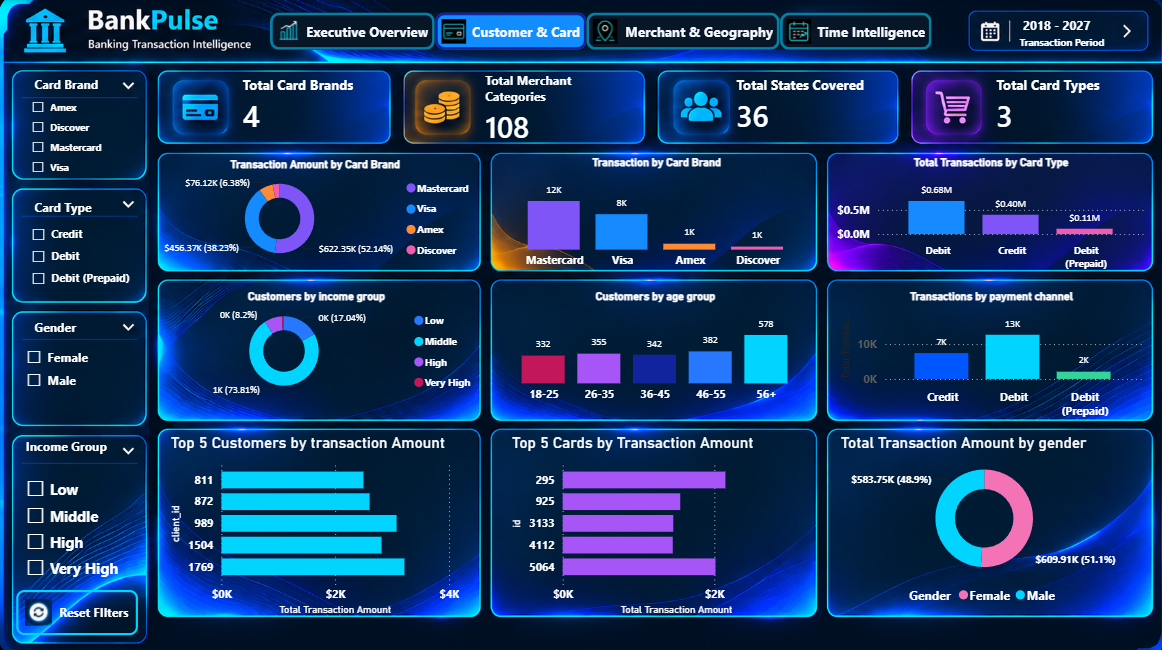

Layout of this report page (visuals, bound fields, positions):
{"tool":"powerbi","page":{"name":"Customer & Card","canvas":[1280,720],"ordinal":1},"visuals":[{"type":"actionButton","box":[296.8,13.3,181,41],"z":0},{"type":"actionButton","box":[477.8,13.3,166.5,41],"z":1000},{"type":"actionButton","box":[644.2,13.3,212.3,41],"z":2000},{"type":"actionButton","box":[856.6,13.3,166.5,41],"z":3000},{"type":"textbox","box":[1114.8,13.3,139.9,47.1],"z":4000},{"type":"cardVisual","fields":{"Data":["Measures (2).Total Merchant Categories"]},"box":[503.6,61.7,217.2,115.8],"z":5000},{"type":"cardVisual","fields":{"Data":["Measures (2).Total Card Brands"]},"box":[237.4,57.6,189.4,115.8],"z":6000},{"type":"cardVisual","fields":{"Data":["Measures (2).Total States Covered"]},"box":[779.4,54.3,270.2,121.9],"z":7000},{"type":"cardVisual","fields":{"Data":["Measures (2).Total Card Types"]},"box":[1065.3,54.3,214.7,121.9],"z":8000},{"type":"slicer","fields":{"Values":["cards_data.card_brand"]},"box":[22.9,101.3,117,103.8],"z":9000},{"type":"slicer","fields":{"Values":["cards_data.card_type"]},"box":[22.9,240.1,129.1,106.2],"z":10000},{"type":"slicer","fields":{"Values":["users_data.gender"]},"box":[18.1,374,129.1,65.1],"z":11000},{"type":"slicer","fields":{"Values":["users_data.Income Group"]},"box":[18.1,517.6,138.7,130.3],"z":12000},{"type":"textbox","box":[32.6,78.4,98.9,37.4],"z":13000},{"type":"textbox","box":[32.6,213.5,107.4,36.2],"z":14000},{"type":"textbox","box":[32.6,346.2,83.2,35],"z":15000},{"type":"textbox","box":[22.9,476.5,108.6,41],"z":16000},{"type":"donutChart","title":"Transaction Amount by Card Brand","fields":{"Category":["cards_data.card_brand"],"Y":["Measures (2).Total Transaction Amount"]},"box":[162.9,172.5,365.6,120.6],"z":17000},{"type":"columnChart","title":"Transaction  by Card Brand","fields":{"Category":["cards_data.card_brand"],"Y":["Measures (2).Total Transactions Count"]},"box":[544.1,171.3,352.3,132.7],"z":18000},{"type":"columnChart","title":"Total Transactions by Card Type","fields":{"Category":["cards_data.card_type"],"Y":["Measures (2).Total Transaction Amount"]},"box":[914.5,171.3,348.7,132.7],"z":19000},{"type":"donutChart","title":"Customers by income group","fields":{"Category":["users_data.Income Group"],"Y":["Measures (2).Total Customers"]},"box":[164.1,318.5,365.6,120.6],"z":20000},{"type":"actionButton","box":[18.1,647.9,133.9,49.5],"z":21000},{"type":"columnChart","title":"Customers by age group","fields":{"Category":["users_data.Age Group"],"Y":["Measures (2).Total Customers"]},"box":[544,318.6,352.3,132.7],"z":22000},{"type":"columnChart","title":"Transactions by payment channel","fields":{"Category":["cards_data.card_type"],"Y":["Measures (2).Total Transactions Count"]},"box":[918.3,318.6,340.9,148.9],"z":23000},{"type":"clusteredBarChart","title":"Top 5 Customers by transaction Amount","fields":{"Category":["transactions_data.client_id"],"Y":["Measures (2).Total Transaction Amount"]},"box":[182.5,476.2,326.6,204.5],"z":24000},{"type":"clusteredBarChart","title":"Top 5 Cards by Transaction Amount","fields":{"Category":["cards_data.id"],"Y":["Measures (2).Total Transaction Amount"]},"box":[557.1,476.2,326.6,204.5],"z":25000},{"type":"donutChart","fields":{"Category":["users_data.gender"],"Y":["Measures (2).Total Transaction Amount"]},"box":[918,476.2,325.2,196.2],"z":26000}]}

Visuals, with their boxes in screenshot pixels (x1, y1, x2, y2), scaled from the page's 1280x720 canvas onto the 1162x650 screenshot:
actionButton: bbox(269, 12, 434, 49)
actionButton: bbox(434, 12, 585, 49)
actionButton: bbox(585, 12, 778, 49)
actionButton: bbox(778, 12, 929, 49)
textbox: bbox(1012, 12, 1139, 55)
cardVisual - Measures (2).Total Merchant Categories: bbox(457, 56, 654, 160)
cardVisual - Measures (2).Total Card Brands: bbox(216, 52, 387, 157)
cardVisual - Measures (2).Total States Covered: bbox(708, 49, 953, 159)
cardVisual - Measures (2).Total Card Types: bbox(967, 49, 1161, 159)
slicer - cards_data.card_brand: bbox(21, 91, 127, 185)
slicer - cards_data.card_type: bbox(21, 217, 138, 313)
slicer - users_data.gender: bbox(16, 338, 134, 396)
slicer - users_data.Income Group: bbox(16, 467, 142, 585)
textbox: bbox(30, 71, 119, 105)
textbox: bbox(30, 193, 127, 225)
textbox: bbox(30, 313, 105, 344)
textbox: bbox(21, 430, 119, 467)
"Transaction Amount by Card Brand" donutChart: bbox(148, 156, 480, 265)
"Transaction  by Card Brand" columnChart: bbox(494, 155, 814, 274)
"Total Transactions by Card Type" columnChart: bbox(830, 155, 1147, 274)
"Customers by income group" donutChart: bbox(149, 288, 481, 396)
actionButton: bbox(16, 585, 138, 630)
"Customers by age group" columnChart: bbox(494, 288, 814, 407)
"Transactions by payment channel" columnChart: bbox(834, 288, 1143, 422)
"Top 5 Customers by transaction Amount" clusteredBarChart: bbox(166, 430, 462, 615)
"Top 5 Cards by Transaction Amount" clusteredBarChart: bbox(506, 430, 802, 615)
donutChart - users_data.gender x Measures (2).Total Transaction Amount: bbox(833, 430, 1129, 607)
